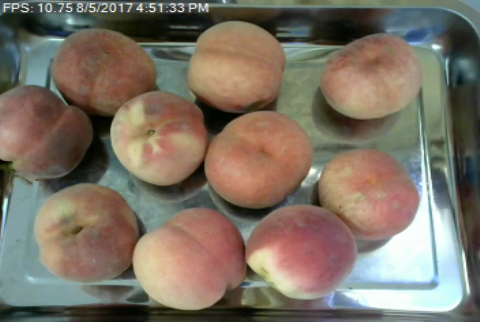Peach: (135, 207, 245, 310), (246, 203, 357, 300), (34, 183, 139, 283), (204, 109, 310, 207), (315, 32, 422, 122), (108, 89, 208, 185), (316, 147, 419, 239), (50, 27, 157, 115), (187, 21, 286, 111)
